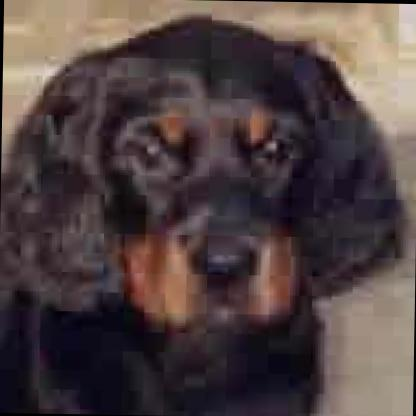Gordon_setter: (0, 8, 409, 414)
